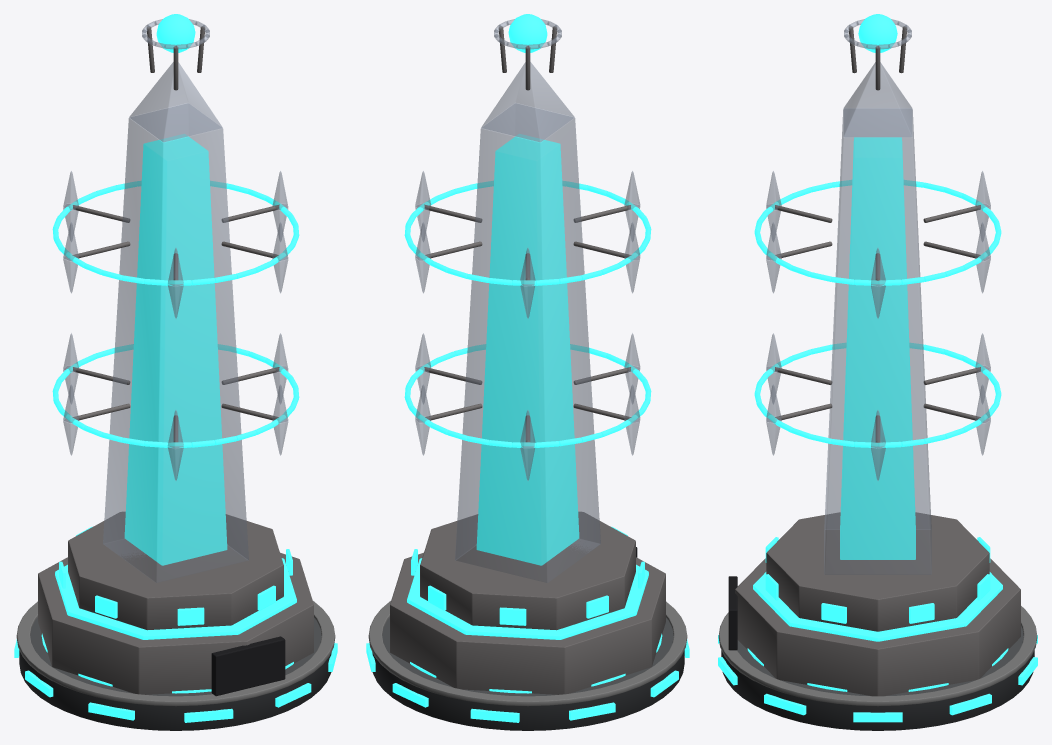
File: Laser_Obelisk.glb
The picture shows the model from 3 angles, left to right: view 1: azimuth 30°, elevation 25°; view 2: azimuth 150°, elevation 25°; view 3: azimuth 270°, elevation 25°; orthographic projection.
Visible parts, largest first — view 1: Laser_Obelisk; view 2: Laser_Obelisk; view 3: Laser_Obelisk.
Boxes of the visible parts, left/top/right/bottom form: Laser_Obelisk: left=14, top=14, right=337, bottom=730; Laser_Obelisk: left=366, top=14, right=689, bottom=730; Laser_Obelisk: left=718, top=14, right=1037, bottom=730.
Bounding box in the file's own units: 3.58 × 8.01 × 3.57.
